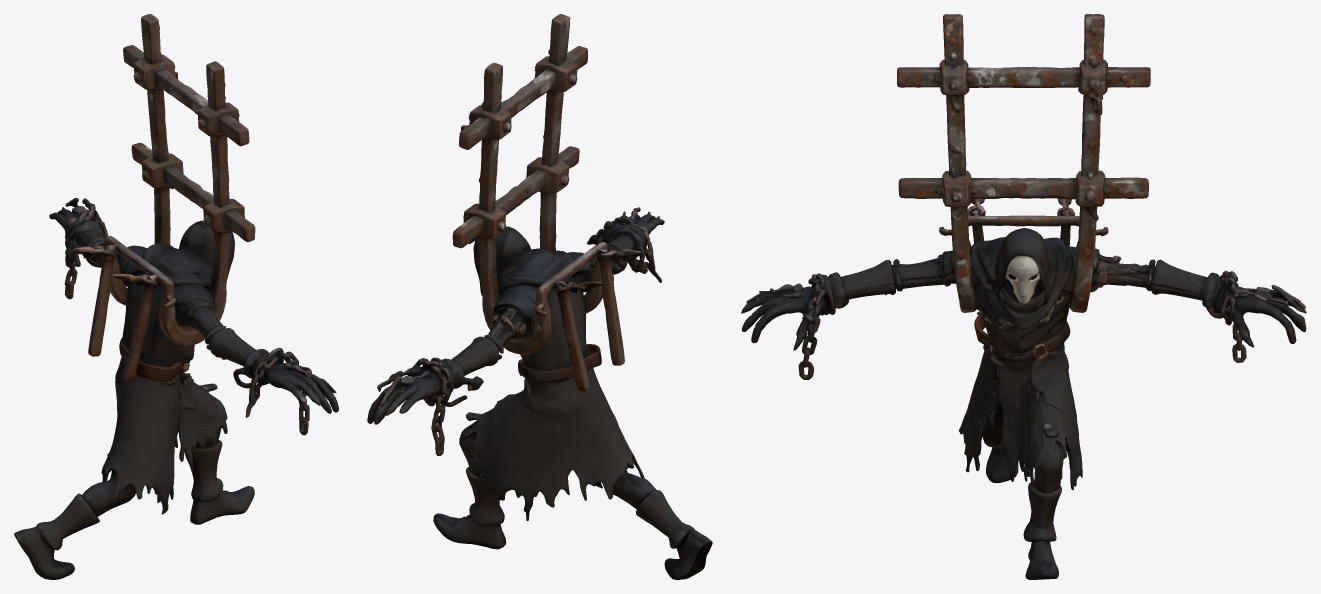
The model's file is undertaker_model.glb.
3 renders of one model, left to right at view 1: azimuth 30°, elevation 25°; view 2: azimuth 150°, elevation 25°; view 3: azimuth 270°, elevation 25°, orthographic. The views are drawn at different scales.
Parts seen in each view (by area): view 1: tripo_node_1f92265d-461c-487f-b33d-20b4c820f155; view 2: tripo_node_1f92265d-461c-487f-b33d-20b4c820f155; view 3: tripo_node_1f92265d-461c-487f-b33d-20b4c820f155.
Part boxes in pixels (x1=…): tripo_node_1f92265d-461c-487f-b33d-20b4c820f155: x1=14, y1=14, x2=338, y2=579; tripo_node_1f92265d-461c-487f-b33d-20b4c820f155: x1=367, y1=14, x2=712, y2=579; tripo_node_1f92265d-461c-487f-b33d-20b4c820f155: x1=741, y1=14, x2=1306, y2=579.
Bounding box in the file's own units: 0.5378 × 1 × 0.9568.
Materials: 1 (1 with a texture image).
